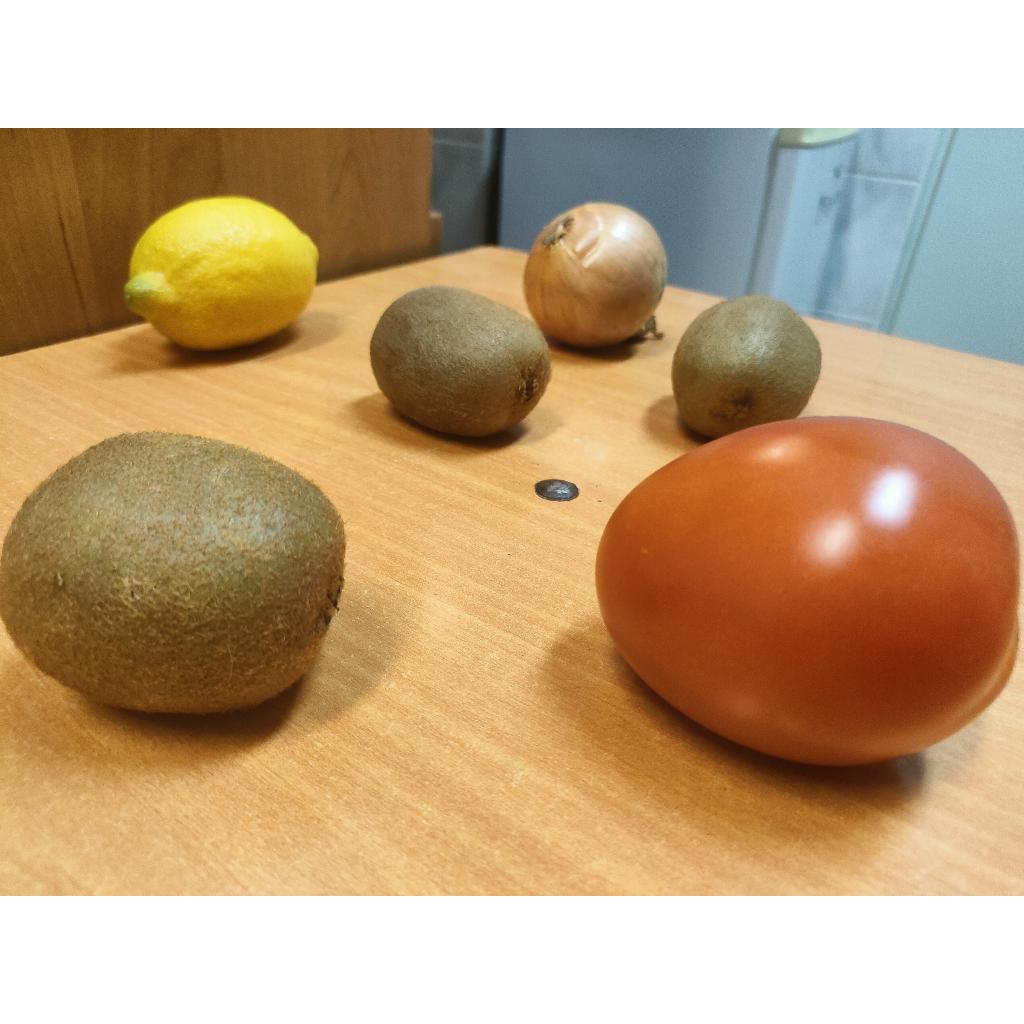kiwi: (0, 432, 346, 712), (370, 286, 550, 436), (672, 294, 822, 438)
lemon: (124, 196, 318, 350), (524, 202, 668, 348)
tomato: (596, 418, 1018, 764)
